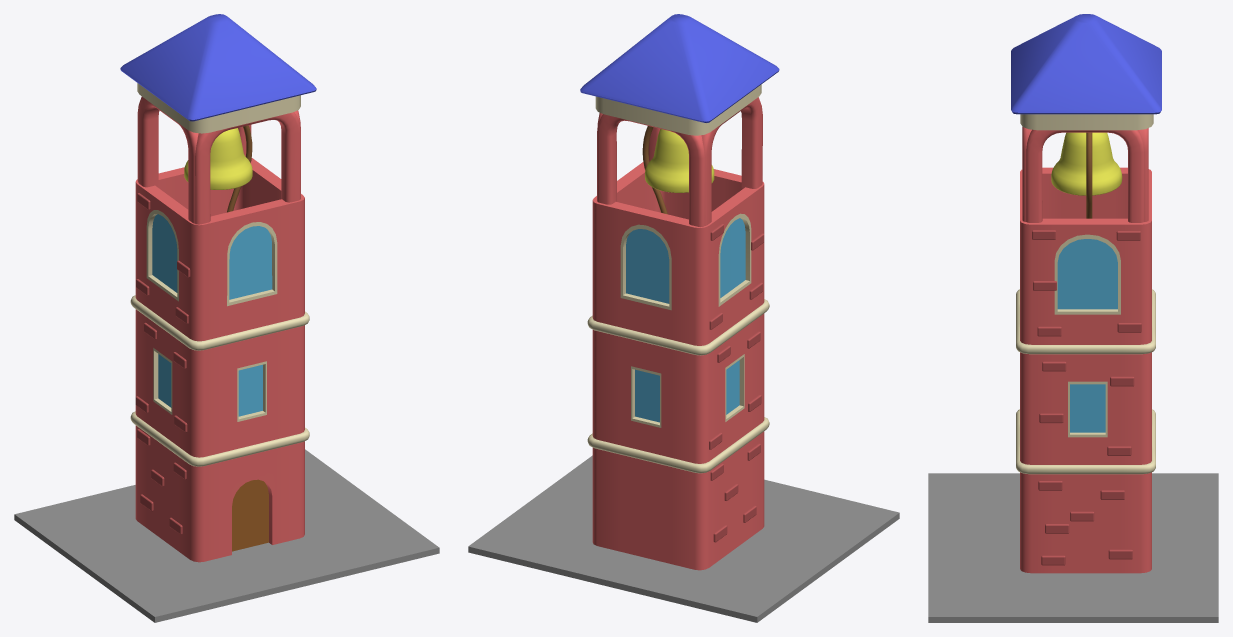
Rendered from bell tower.fbx.
3 views of the same model, side by side, from view 1: azimuth 30°, elevation 25°; view 2: azimuth 150°, elevation 25°; view 3: azimuth 270°, elevation 25° (orthographic). The views are drawn at different scales.
Parts seen in each view (by area): view 1: Cube.015, Cube.016, Cylinder.002; view 2: Cube.015, Cube.016, Cylinder.002; view 3: Cube.015, Cube.016, Cylinder.002, BezierCurve.
Part boxes in pixels (box(x1,y1,x2,y2)): Cube.015: box(120, 14, 316, 562); Cube.016: box(14, 449, 439, 622); Cylinder.002: box(184, 128, 252, 189); Cube.015: box(580, 14, 779, 570); Cube.016: box(468, 455, 899, 622); Cylinder.002: box(645, 129, 714, 192); Cube.015: box(1011, 14, 1161, 573); Cube.016: box(928, 473, 1218, 622); Cylinder.002: box(1051, 132, 1122, 195); BezierCurve: box(1086, 132, 1092, 218).
Bounding box in the file's own units: 1447 × 2497 × 1237.
